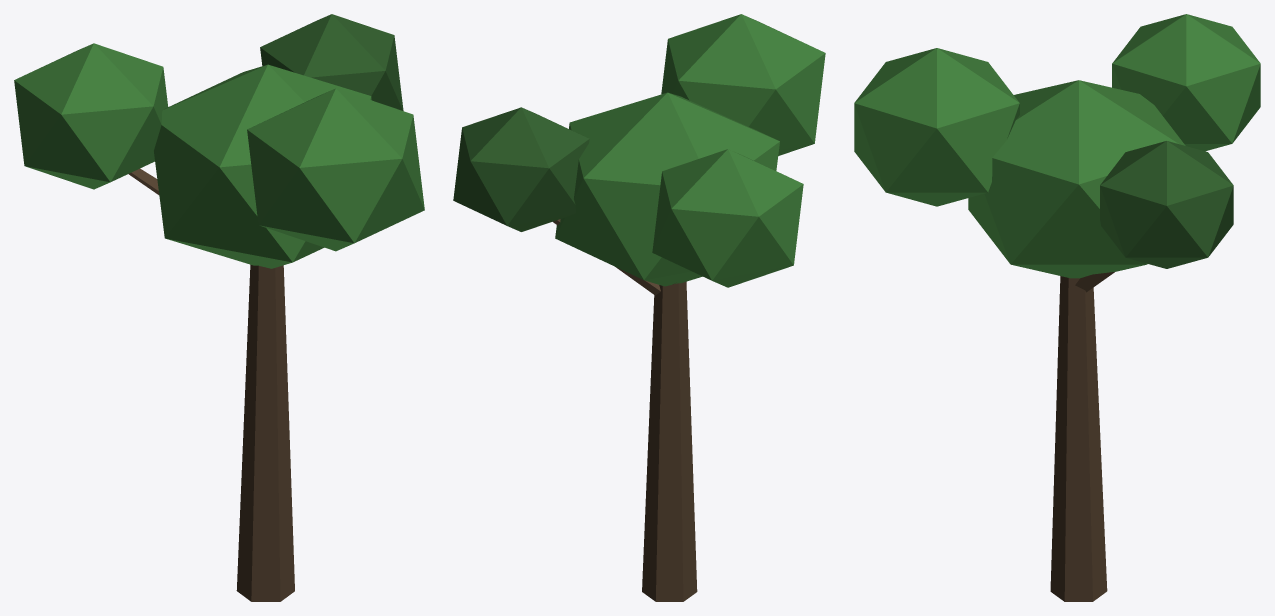
The model's file is broad-v0-summer.glb.
The picture shows the model from 3 angles, left to right: view 1: azimuth 30°, elevation 25°; view 2: azimuth 150°, elevation 25°; view 3: azimuth 270°, elevation 25°; orthographic projection. The views are drawn at different scales.
Visible parts, largest first — view 1: broad_v0; view 2: broad_v0; view 3: broad_v0.
Part boxes in pixels (left/top/right/bottom): broad_v0: left=14, top=14, right=424, bottom=601; broad_v0: left=453, top=14, right=825, bottom=601; broad_v0: left=854, top=14, right=1260, bottom=601.
Size of what is drawn, in the model's own units: 4.28 by 6.32 by 4.3.
